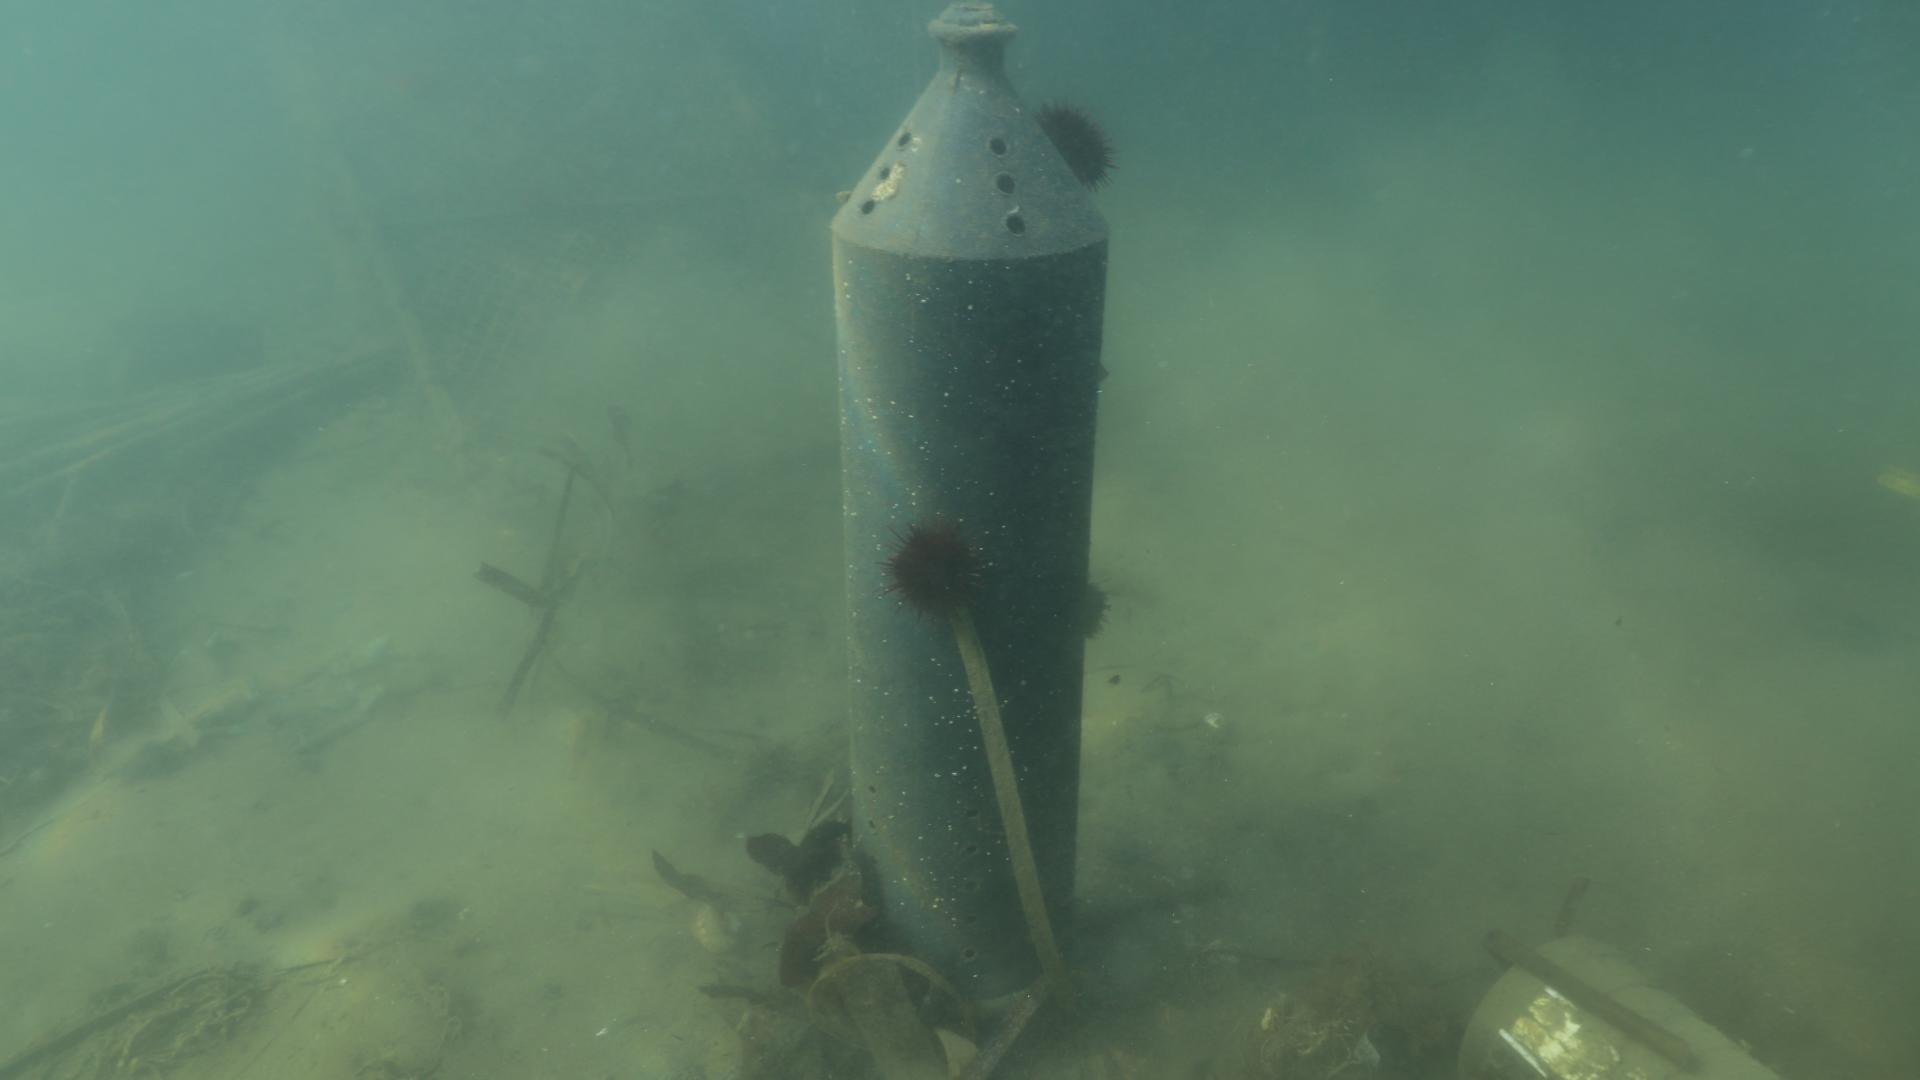eel fish trap: (827, 0, 1109, 1004)
